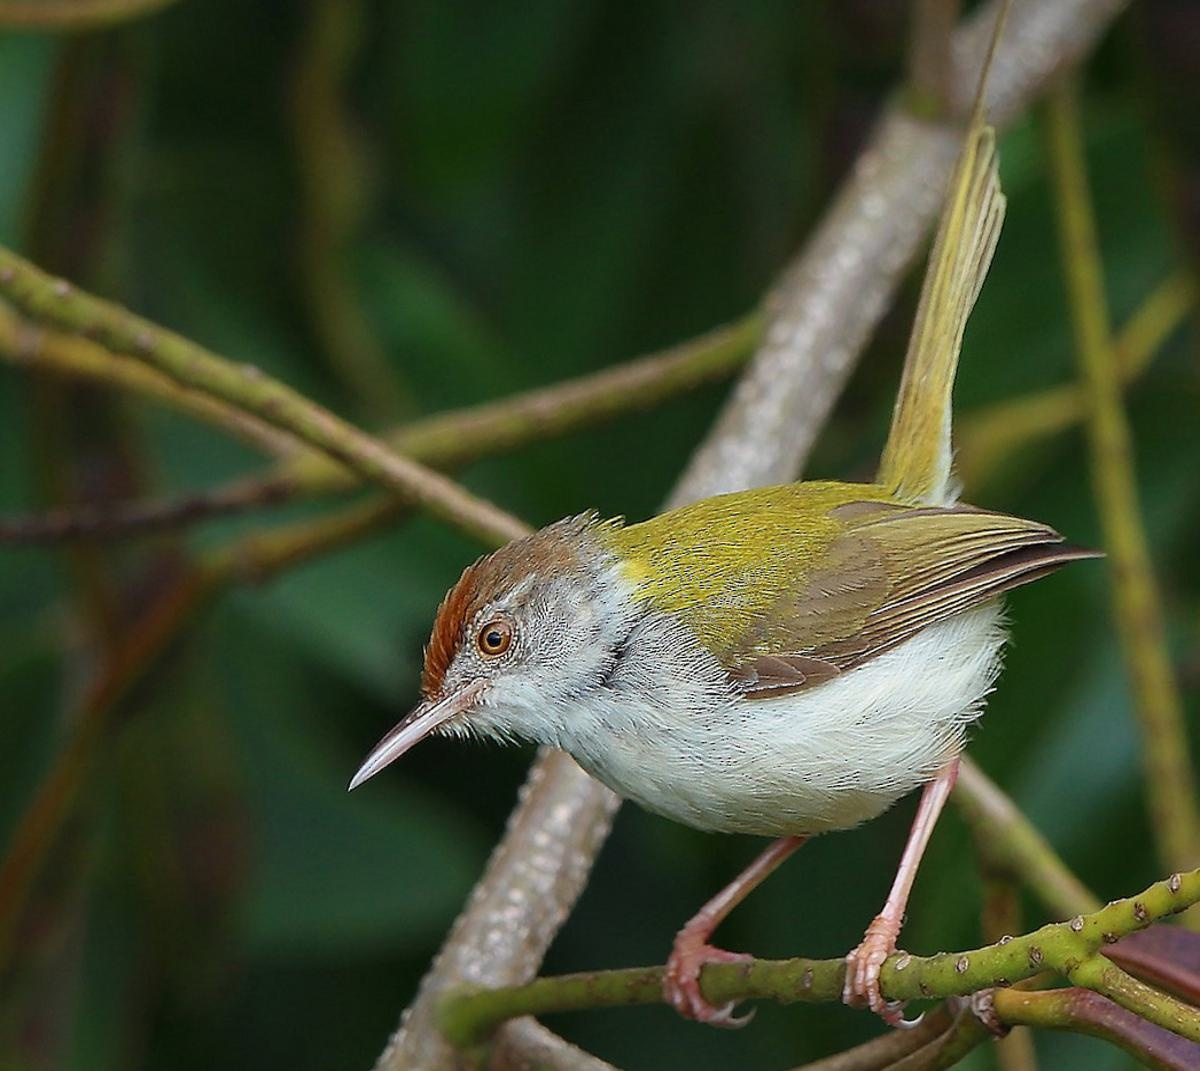tailorbird: (276, 145, 1113, 1017)
